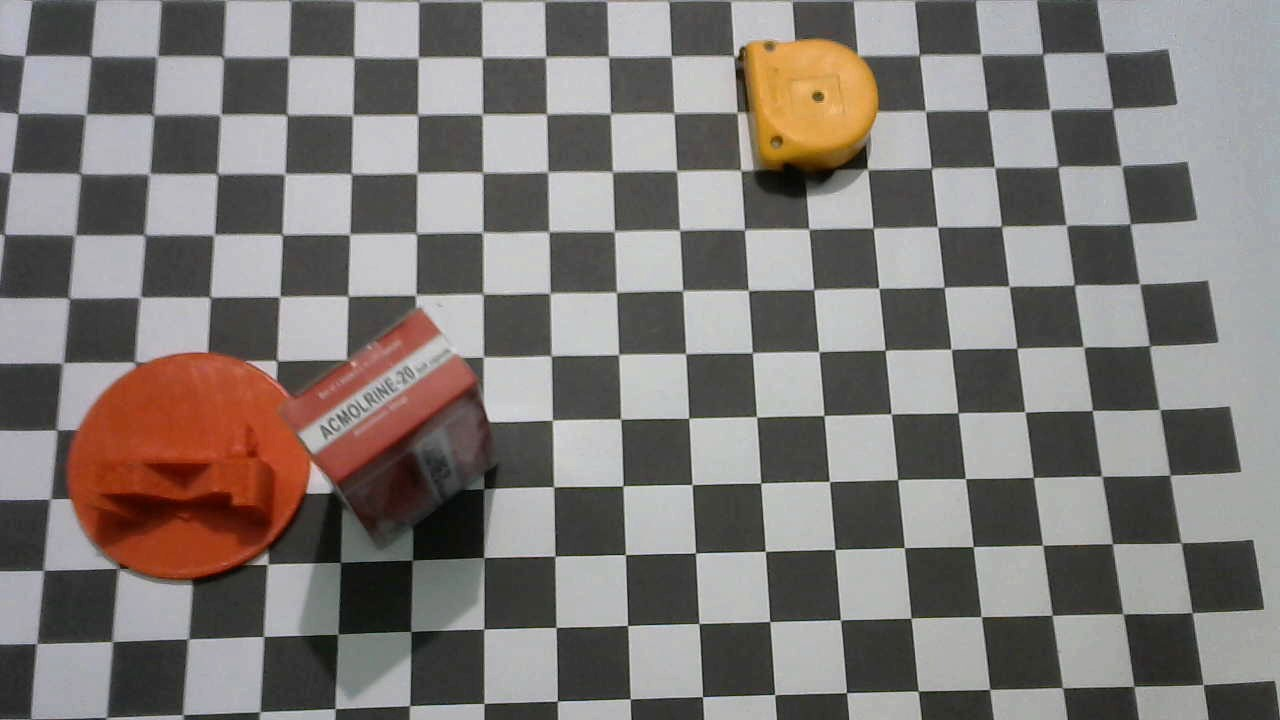blue: (734, 38, 880, 171)
green: (62, 353, 313, 580)
red: (281, 308, 504, 546)
